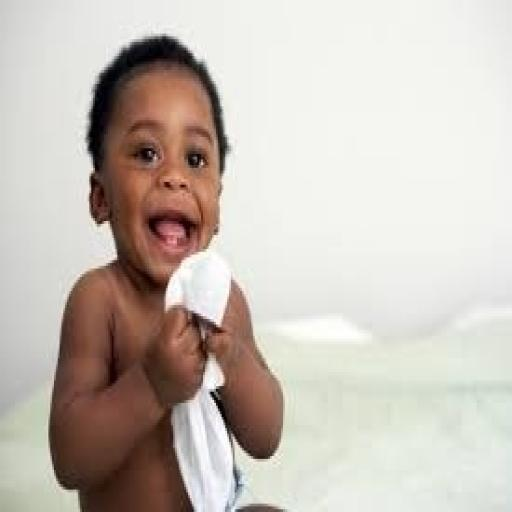laughing: (43, 28, 292, 509)
